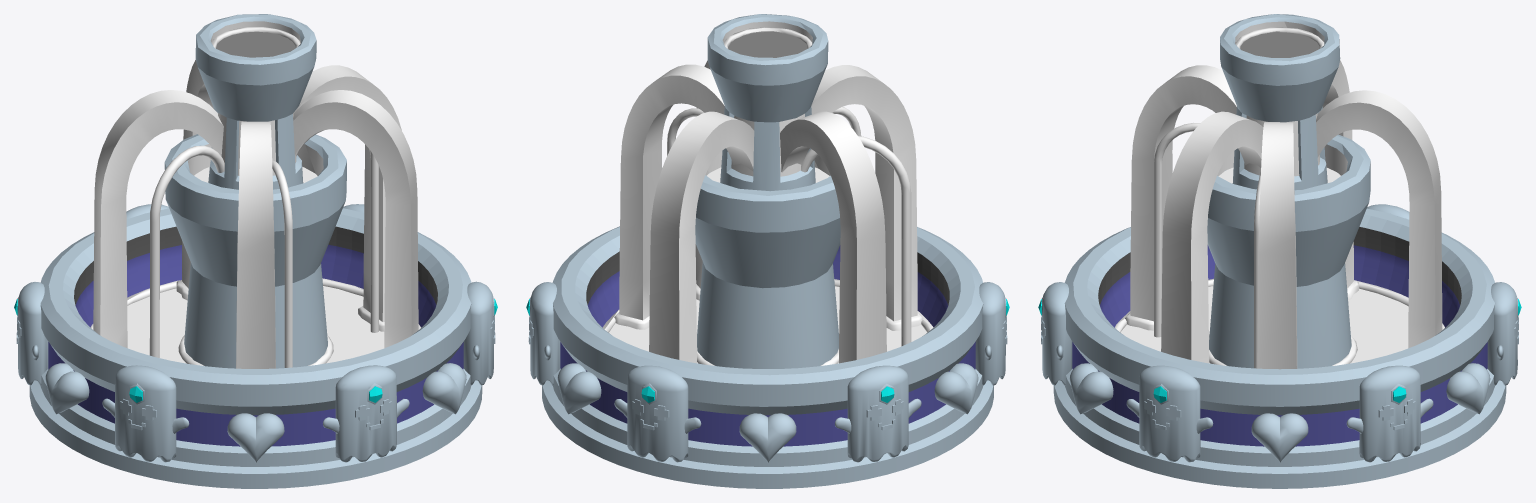
Rendered from GraandFountain.fbx.
3 views of the same model, side by side, from view 1: azimuth 30°, elevation 25°; view 2: azimuth 150°, elevation 25°; view 3: azimuth 270°, elevation 25° (orthographic).
Parts seen in each view (by area): view 1: LOD0; view 2: LOD0; view 3: LOD0.
Part boxes in pixels (left/top/right/bottom): LOD0: left=14, top=14, right=497, bottom=488; LOD0: left=526, top=14, right=1009, bottom=488; LOD0: left=1038, top=14, right=1521, bottom=488.
Size of what is drawn, in the model's own units: 427 by 358 by 437.
